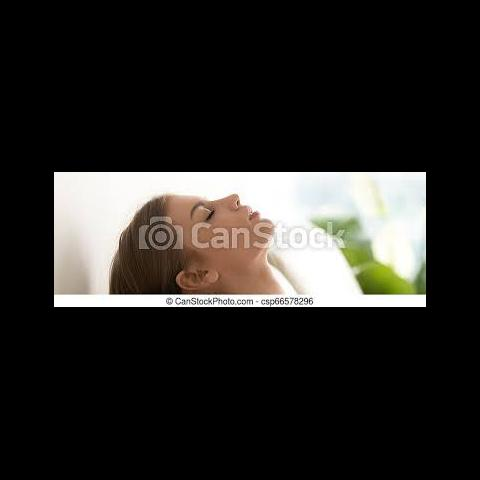closed: (186, 193, 222, 230)
